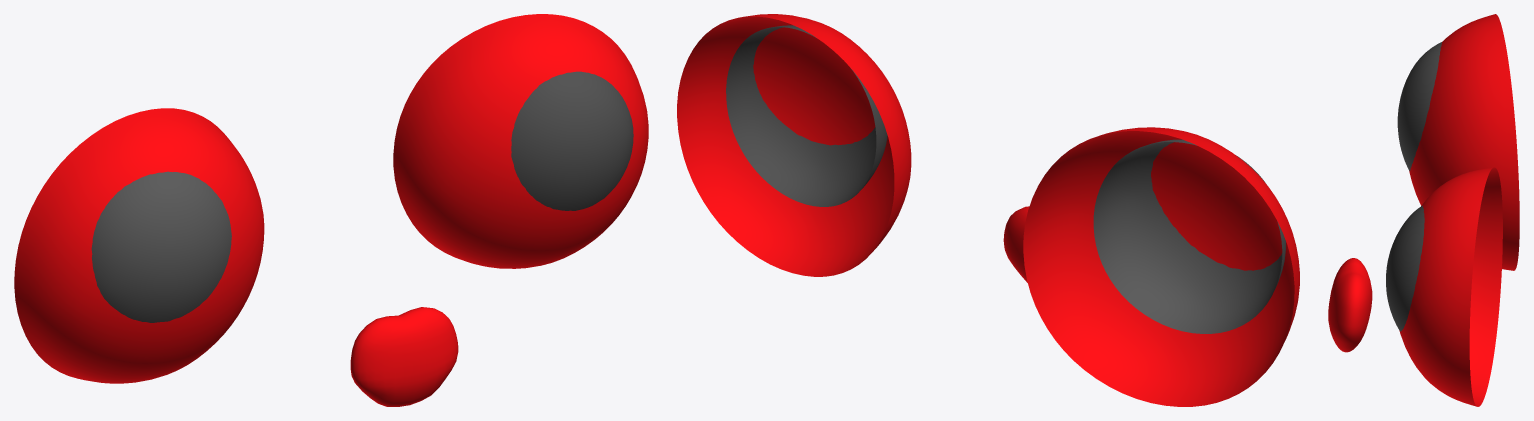
Rendered from yeuxNez-singe-red.gltf.
The picture shows the model from 3 angles, left to right: view 1: azimuth 30°, elevation 25°; view 2: azimuth 150°, elevation 25°; view 3: azimuth 270°, elevation 25°; orthographic projection. The views are drawn at different scales.
Visible parts, largest first — view 1: cercle oeil droit; view 2: cercle oeil droit; view 3: cercle oeil droit.
Boxes of the visible parts, box(x1,y1,x2,y2) form: cercle oeil droit: box(14, 14, 648, 406); cercle oeil droit: box(677, 14, 1299, 406); cercle oeil droit: box(1328, 14, 1519, 406).
Size of the model in its own units: 1.45 by 0.6328 by 0.4384.
